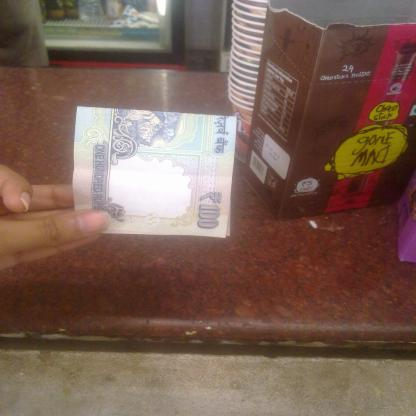Old100Back: (72, 106, 238, 238)
